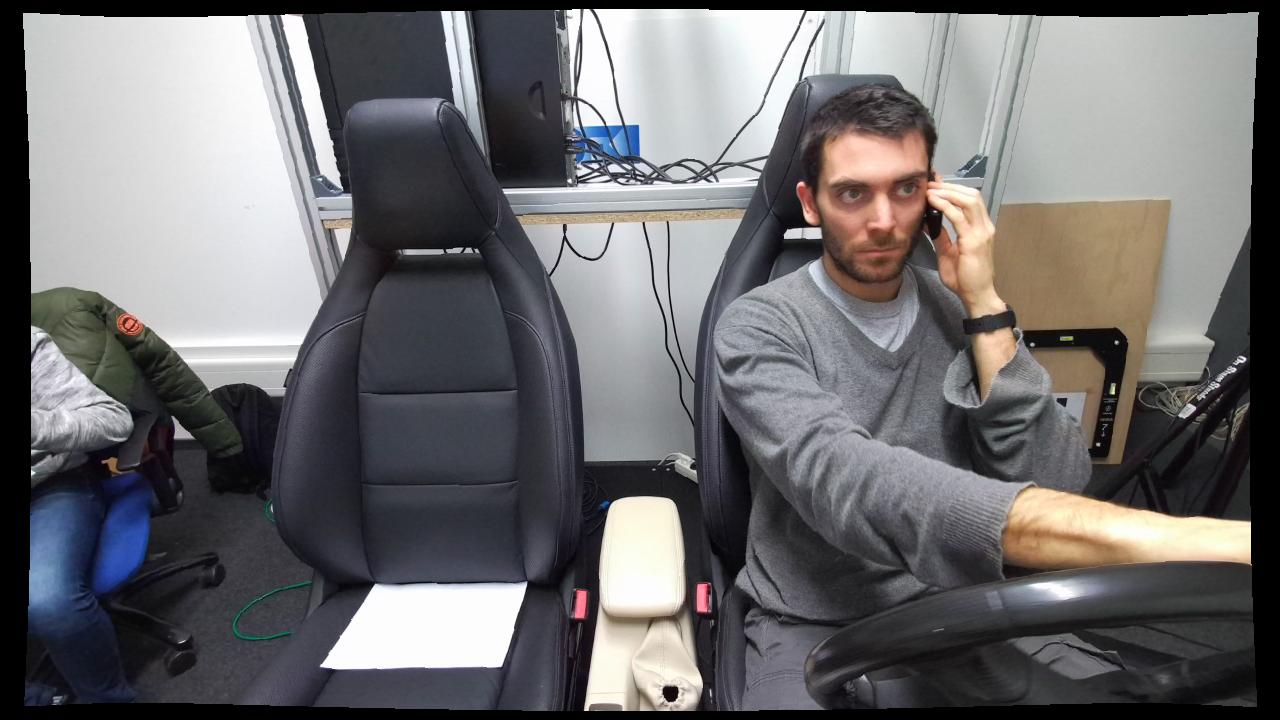PhoneUse: (920, 177, 972, 275)
